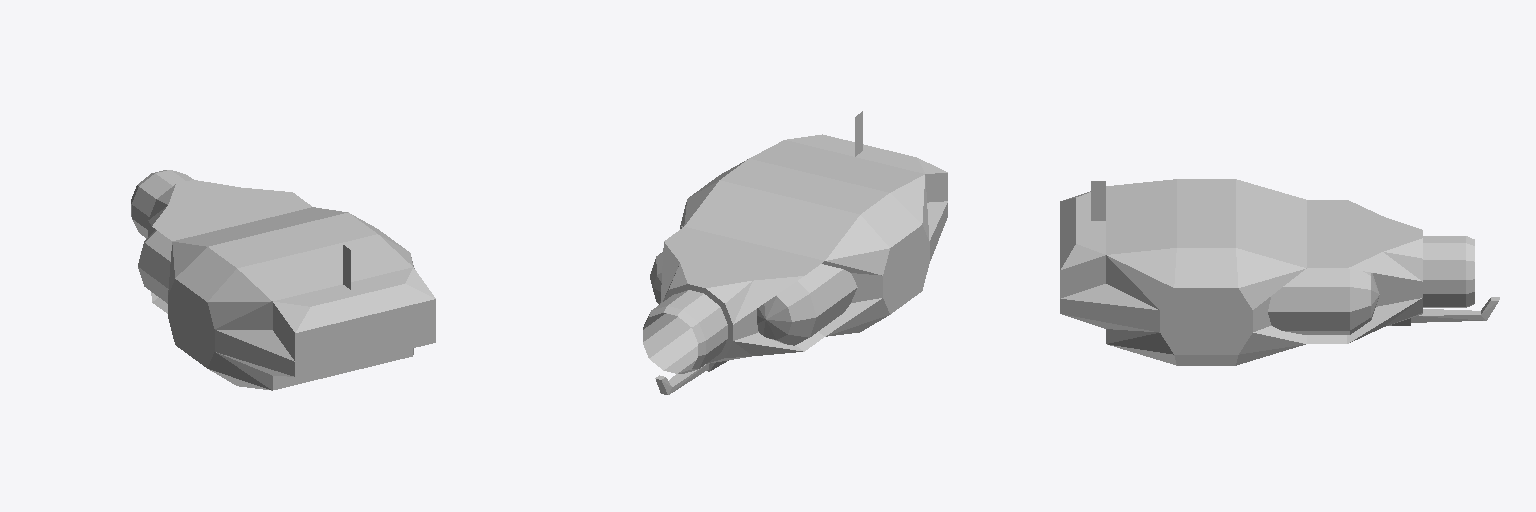
3 views of the same model, side by side, from view 1: azimuth 30°, elevation 25°; view 2: azimuth 150°, elevation 25°; view 3: azimuth 270°, elevation 25° (orthographic).
Visible parts, largest first — view 1: Dragon; view 2: Dragon; view 3: Dragon.
Part boxes in pixels (bbox=[...]): Dragon: bbox=[131, 170, 435, 390]; Dragon: bbox=[643, 111, 947, 394]; Dragon: bbox=[1060, 179, 1499, 365].
Bounding box in the file's own units: 0.9566 × 0.6785 × 1.79.